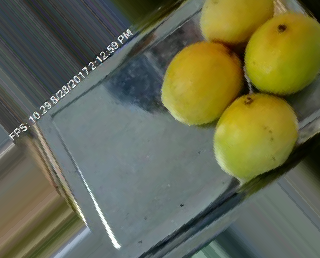Mango: (212, 91, 300, 184), (160, 42, 245, 123), (246, 14, 320, 96), (199, 0, 274, 43)
